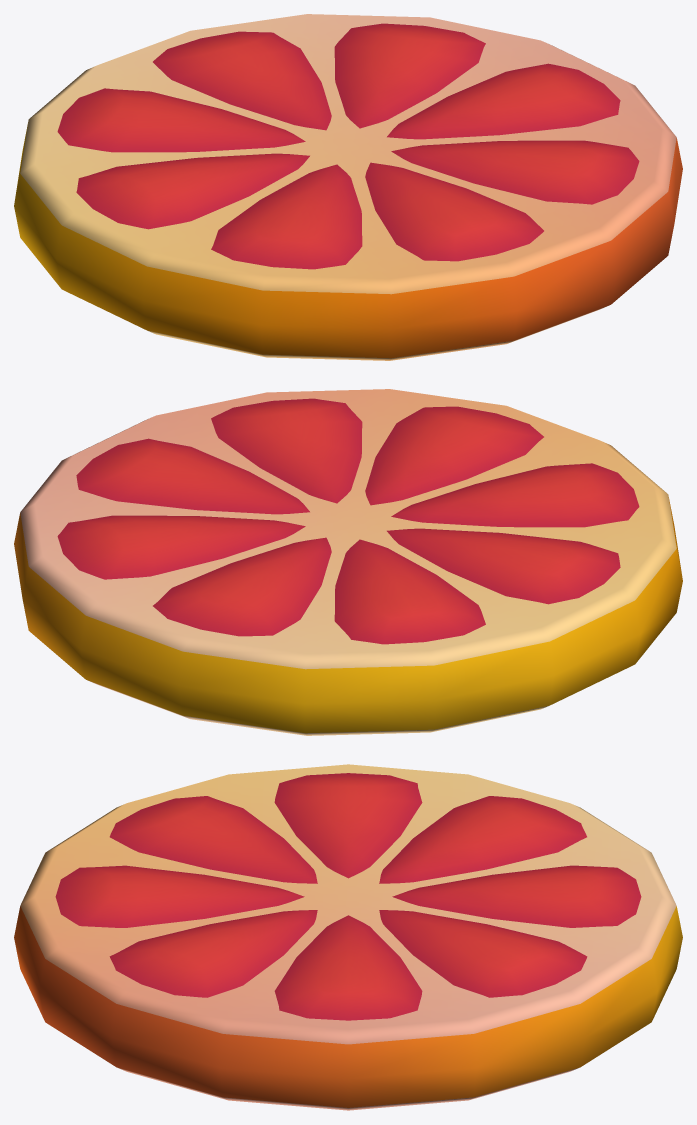
File: grapefruit_004.fbx
The picture shows the model from 3 angles, top to bottom: view 1: azimuth 30°, elevation 25°; view 2: azimuth 150°, elevation 25°; view 3: azimuth 270°, elevation 25°; orthographic projection.
Parts seen in each view (by area): view 1: grapefruit_004; view 2: grapefruit_004; view 3: grapefruit_004.
Boxes of the visible parts, x1,y1,x2,y2 form: grapefruit_004: [14, 14, 682, 360]; grapefruit_004: [14, 389, 682, 735]; grapefruit_004: [14, 764, 682, 1110].
Size of the model in its own units: 10.98 by 10.98 by 1.9.
